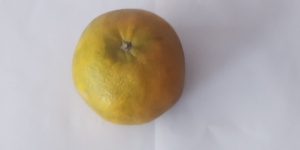BAD: (73, 10, 187, 126)
